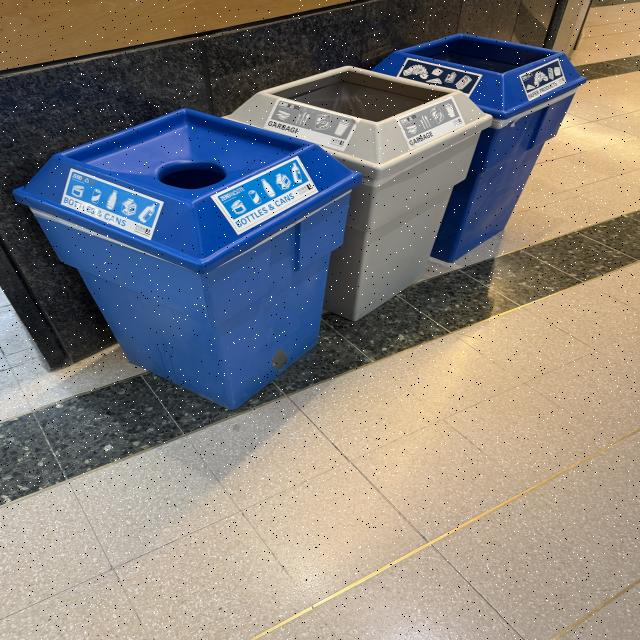Dustbin: (8, 32, 587, 410)
